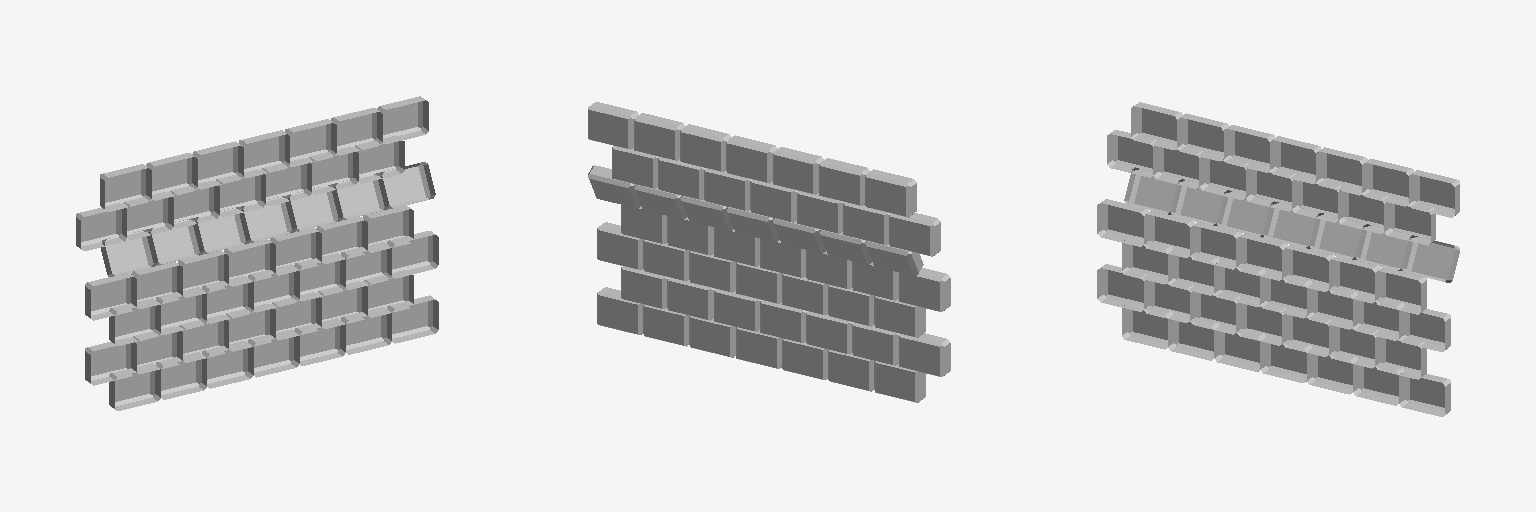
The model's file is brick_wall.obj.
3 renders of one model, left to right at view 1: azimuth 30°, elevation 25°; view 2: azimuth 150°, elevation 25°; view 3: azimuth 330°, elevation 25°, orthographic.
Visible parts, largest first — view 1: Cube.007_Cube.015, Cube.001_Cube.007, Cube.006_Cube.014, Cube.003_Cube.009, Cube.005_Cube.011, Cube.002_Cube.008, Cube.004_Cube.010; view 2: Cube.006_Cube.014, Cube.007_Cube.015, Cube.002_Cube.008, Cube.001_Cube.007, Cube.004_Cube.010, Cube.003_Cube.009, Cube.005_Cube.011; view 3: Cube.007_Cube.015, Cube.001_Cube.007, Cube.006_Cube.014, Cube.003_Cube.009, Cube.005_Cube.011, Cube.002_Cube.008, Cube.004_Cube.010.
Boxes of the visible parts, x1,y1,x2,y2 form: Cube.007_Cube.015: [76, 135, 404, 250]; Cube.001_Cube.007: [109, 295, 438, 410]; Cube.006_Cube.014: [100, 96, 428, 211]; Cube.003_Cube.009: [85, 205, 413, 320]; Cube.005_Cube.011: [101, 162, 435, 276]; Cube.002_Cube.008: [85, 270, 413, 385]; Cube.004_Cube.010: [109, 231, 438, 345]; Cube.006_Cube.014: [588, 102, 916, 217]; Cube.007_Cube.015: [612, 146, 940, 256]; Cube.002_Cube.008: [621, 266, 950, 376]; Cube.001_Cube.007: [597, 287, 925, 402]; Cube.004_Cube.010: [597, 222, 925, 337]; Cube.003_Cube.009: [621, 205, 950, 311]; Cube.005_Cube.011: [588, 165, 923, 275]; Cube.007_Cube.015: [1107, 130, 1435, 245]; Cube.001_Cube.007: [1122, 301, 1450, 416]; Cube.006_Cube.014: [1131, 102, 1459, 217]; Cube.003_Cube.009: [1097, 199, 1426, 314]; Cube.005_Cube.011: [1124, 167, 1459, 282]; Cube.002_Cube.008: [1097, 264, 1426, 379]; Cube.004_Cube.010: [1122, 236, 1450, 351].
Bounding box in the file's own units: 15.04 × 9.37 × 1.28.